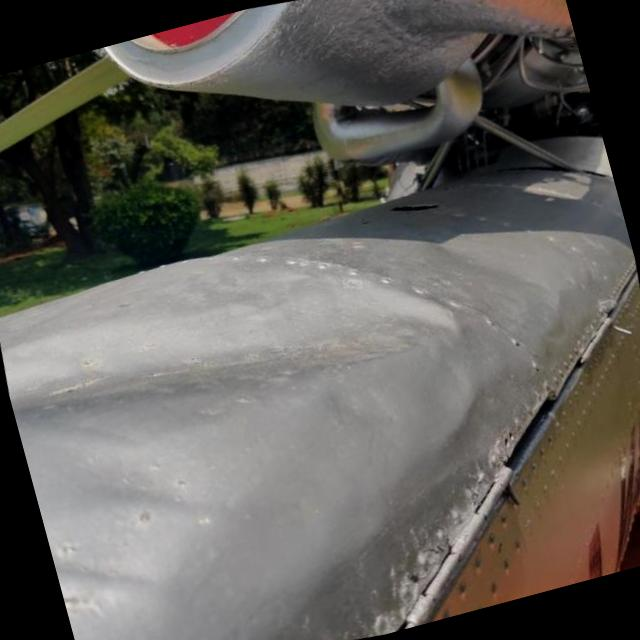dent: (0, 192, 479, 494), (52, 414, 261, 606), (50, 515, 211, 640)
